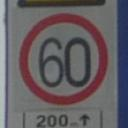speed_limit_60: (18, 12, 109, 107)
